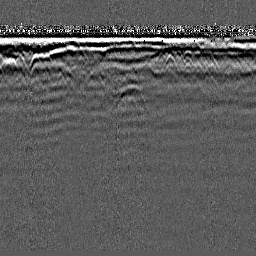cavity: (110, 83, 149, 112)
